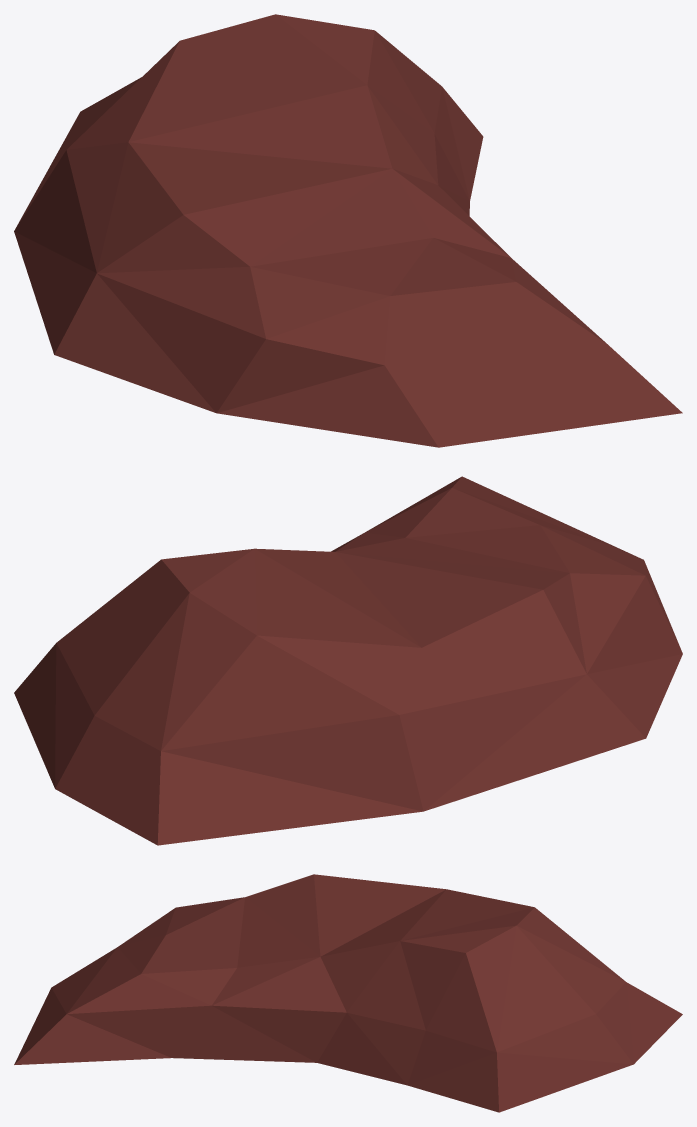
The model's file is Rock_7_Red.fbx.
3 renders of one model, top to bottom at view 1: azimuth 30°, elevation 25°; view 2: azimuth 150°, elevation 25°; view 3: azimuth 270°, elevation 25°, orthographic. The views are drawn at different scales.
Visible parts, largest first — view 1: Rock_7_Red; view 2: Rock_7_Red; view 3: Rock_7_Red.
Part boxes in pixels (x1,y1,x2,y2): Rock_7_Red: [14, 14, 682, 447]; Rock_7_Red: [14, 476, 682, 845]; Rock_7_Red: [14, 874, 682, 1112].
Bounding box in the file's own units: 228 × 64.34 × 332.
